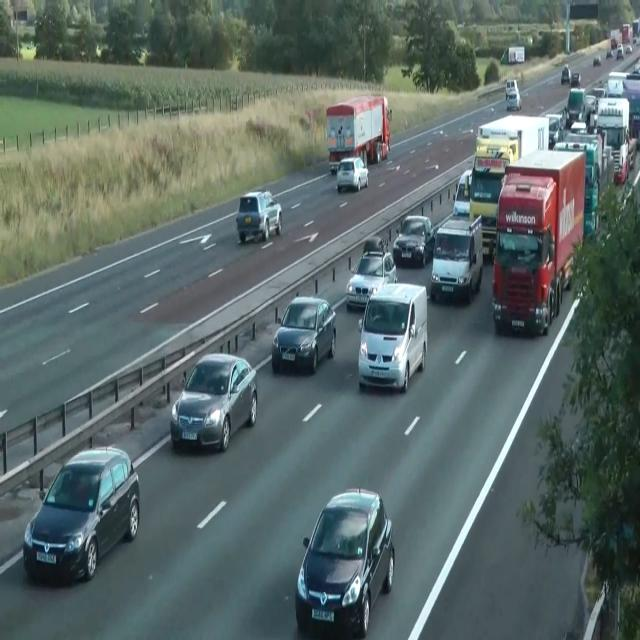bus: (295, 487, 395, 638), (170, 352, 258, 452), (271, 295, 337, 373), (345, 236, 397, 310), (393, 214, 435, 268), (336, 156, 368, 192), (452, 168, 472, 216), (542, 113, 562, 147), (13, 41, 39, 59), (506, 91, 521, 110), (505, 78, 517, 100), (569, 121, 587, 134), (561, 64, 571, 84), (570, 72, 580, 87), (616, 44, 624, 60), (593, 55, 601, 66), (633, 60, 639, 74), (611, 37, 617, 49), (625, 44, 632, 54), (606, 49, 612, 58)
jeep: (22, 444, 140, 584), (358, 281, 428, 392), (429, 213, 484, 303), (236, 189, 282, 243)
minibus: (491, 148, 585, 336), (468, 114, 549, 258), (552, 132, 602, 241), (325, 94, 391, 174), (468, 153, 506, 258), (475, 114, 549, 167), (596, 97, 630, 185), (607, 71, 639, 145), (500, 45, 524, 64), (632, 18, 640, 42)
